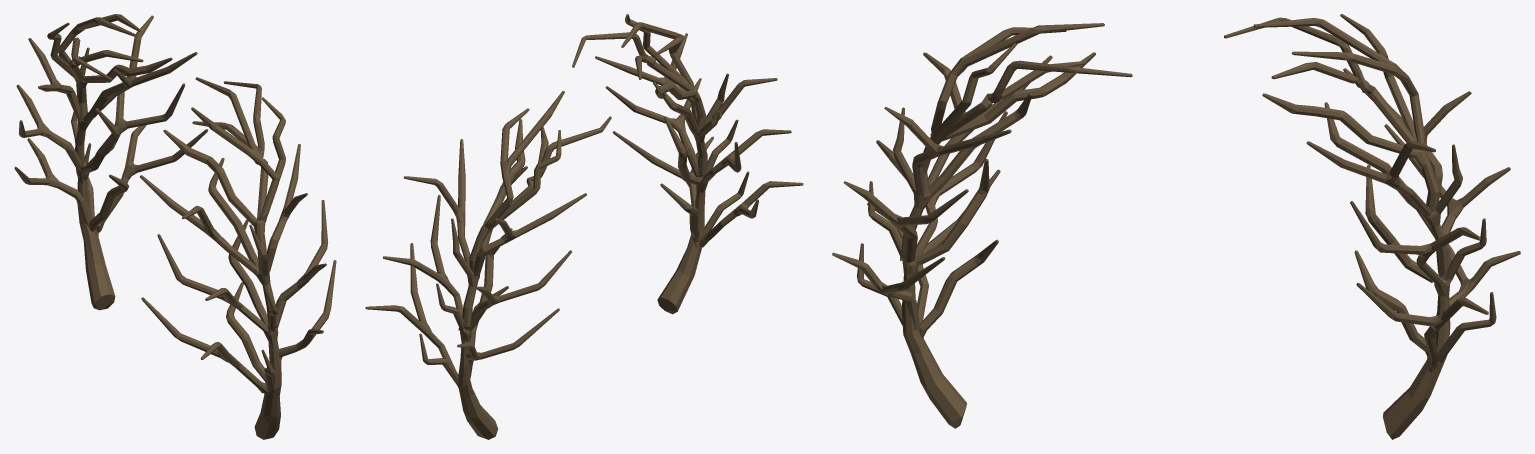
The model's file is check point.fbx.
The picture shows the model from 3 angles, left to right: view 1: azimuth 30°, elevation 25°; view 2: azimuth 150°, elevation 25°; view 3: azimuth 270°, elevation 25°; orthographic projection. The views are drawn at different scales.
Visible parts, largest first — view 1: arco 1, arco 2; view 2: arco 2, arco 1; view 3: arco 2, arco 1.
Part boxes in pixels (x1=…): arco 1: x1=140, y1=77, x2=336, y2=439; arco 2: x1=14, y1=14, x2=208, y2=310; arco 2: x1=365, y1=91, x2=611, y2=439; arco 1: x1=572, y1=14, x2=803, y2=314; arco 2: x1=1224, y1=14, x2=1520, y2=439; arco 1: x1=832, y1=23, x2=1132, y2=428.
Size of the model in its own units: 459 by 677 by 1047.
